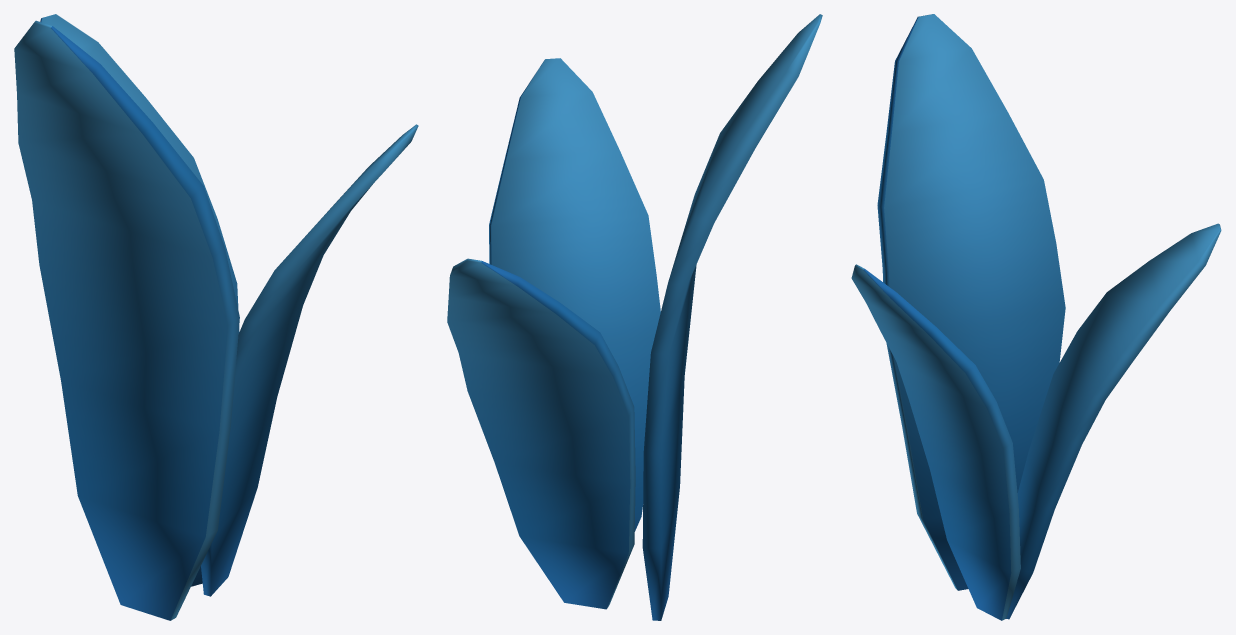
The model's file is Grass009.fbx.
The picture shows the model from 3 angles, left to right: view 1: azimuth 30°, elevation 25°; view 2: azimuth 150°, elevation 25°; view 3: azimuth 270°, elevation 25°; orthographic projection. The views are drawn at different scales.
Visible parts, largest first — view 1: Grass009; view 2: Grass009; view 3: Grass009.
Boxes of the visible parts, x1,y1,x2,y2 form: Grass009: (14,14,418,620); Grass009: (447,14,822,620); Grass009: (851,14,1221,620).
Bounding box in the file's own units: 43.03 × 75.82 × 49.16.
